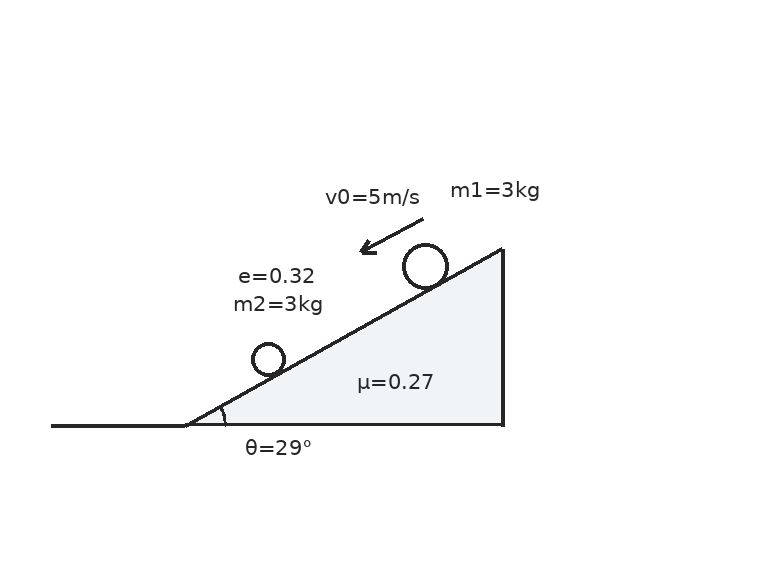ball: (400, 241, 450, 291), (249, 340, 287, 378)
ramp: (183, 247, 504, 427)
